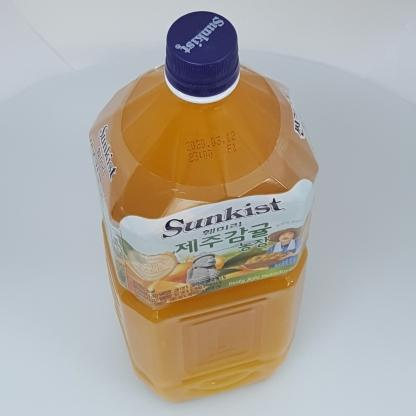-----------2L: (88, 11, 319, 403)
